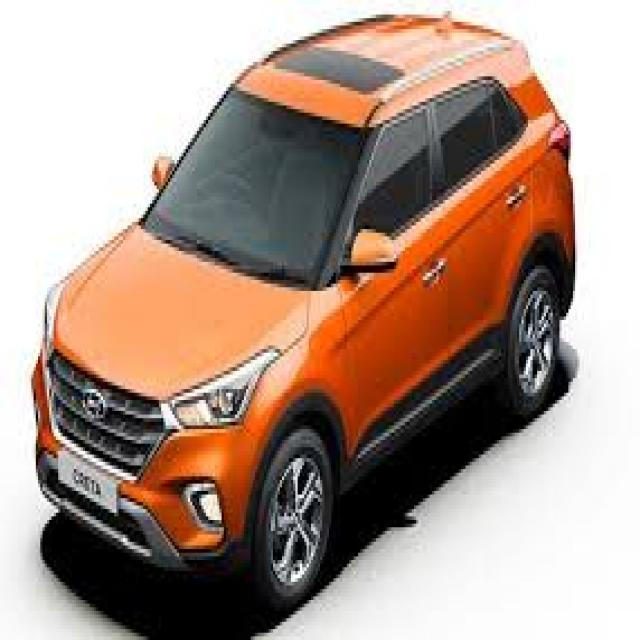SUV: (32, 16, 576, 614)
